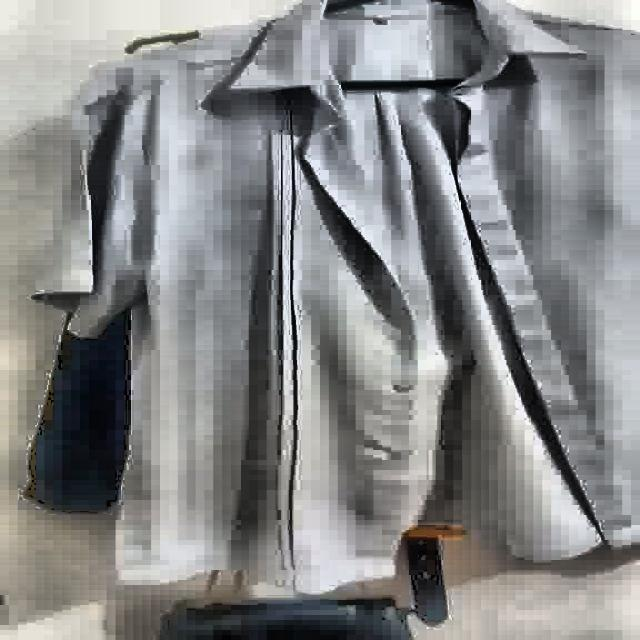clothes: (41, 0, 632, 597)
